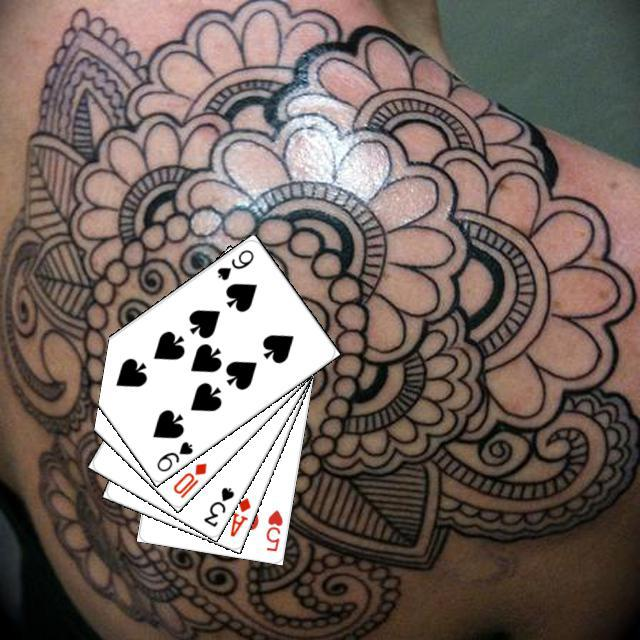10d: (168, 458, 208, 500)
3s: (199, 482, 236, 529)
5h: (261, 504, 284, 553)
9s: (151, 436, 195, 474), (212, 244, 255, 282)
Ad: (225, 493, 253, 539)
